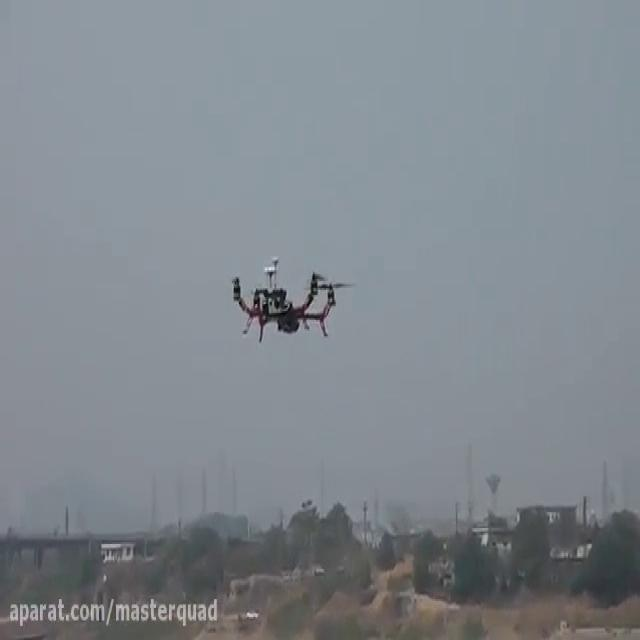drone: (228, 247, 356, 350)
